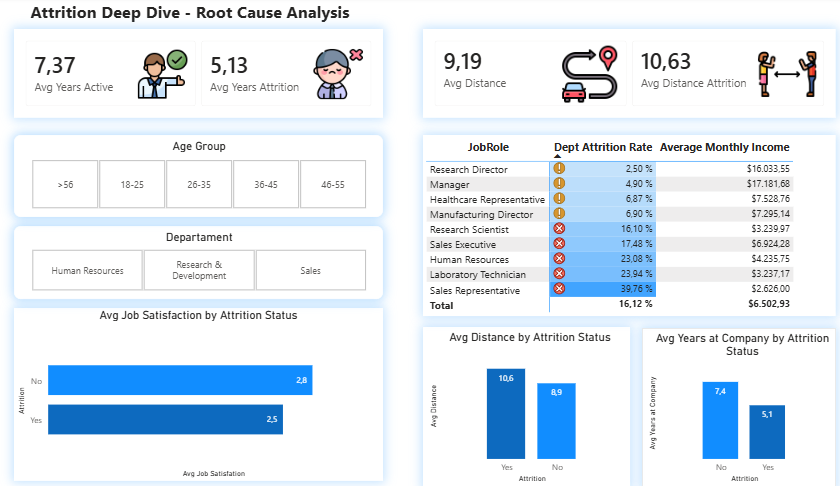

The page's visual inventory and layout, read from the dashboard file:
{"tool":"powerbi","page":{"name":"Attrition Deep Dive","canvas":[1280,720],"ordinal":1},"visuals":[{"type":"textbox","box":[55,0,505,46.7],"z":0},{"type":"cardVisual","fields":{"Data":["Medidas.Avg Years Active","Medidas.Avg Years Attrition"]},"box":[36.6,46.8,540,130.2],"z":1000},{"type":"cardVisual","fields":{"Data":["Medidas.Avg Distance","Medidas.Avg Distance Attrition"]},"box":[635.1,46.8,604.4,130.2],"z":2000},{"type":"columnChart","title":"Avg Years at Company by Attrition Status","fields":{"Category":["Employees.Attrition"],"Y":["Medidas.Avg Years at Company"]},"box":[955.6,484.4,283.9,235.6],"z":3000},{"type":"columnChart","title":"Avg Distance by Attrition Status","fields":{"Y":["Medidas.Avg Distance"],"Category":["Employees.Attrition"]},"box":[635.1,482.9,302.9,237.1],"z":4000},{"type":"barChart","title":"Avg Job Satisfaction by Attrition Status","fields":{"Category":["Employees.Attrition"],"Y":["Medidas.Avg Job Satisfation"]},"box":[36.6,455.1,540,253.2],"z":5000},{"type":"pivotTable","fields":{"Rows":["Employees.JobRole"],"Values":["Medidas.Dept Attrition Rate","Medidas.Average Monthly Income"]},"box":[635.1,202,604.4,264.9],"z":6000},{"type":"slicer","title":"Departament","fields":{"Values":["Employees.Department"]},"box":[36.6,335.1,540,106.8],"z":6001},{"type":"slicer","title":"Age Group","fields":{"Values":["Employees.Age Group"]},"box":[36.6,202,540,120],"z":6002}]}

Visuals, with their boxes in screenshot pixels (x1, y1, x2, y2), scaled from the page's 1280x720 canvas onto the 840x486 screenshot:
textbox: bbox=[36, 0, 368, 32]
cardVisual - Medidas.Avg Years Active x Medidas.Avg Years Attrition: bbox=[24, 32, 378, 119]
cardVisual - Medidas.Avg Distance x Medidas.Avg Distance Attrition: bbox=[417, 32, 813, 119]
"Avg Years at Company by Attrition Status" columnChart: bbox=[627, 327, 813, 485]
"Avg Distance by Attrition Status" columnChart: bbox=[417, 326, 616, 485]
"Avg Job Satisfaction by Attrition Status" barChart: bbox=[24, 307, 378, 478]
pivotTable - Employees.JobRole x Medidas.Dept Attrition Rate: bbox=[417, 136, 813, 315]
"Departament" slicer: bbox=[24, 226, 378, 298]
"Age Group" slicer: bbox=[24, 136, 378, 217]
